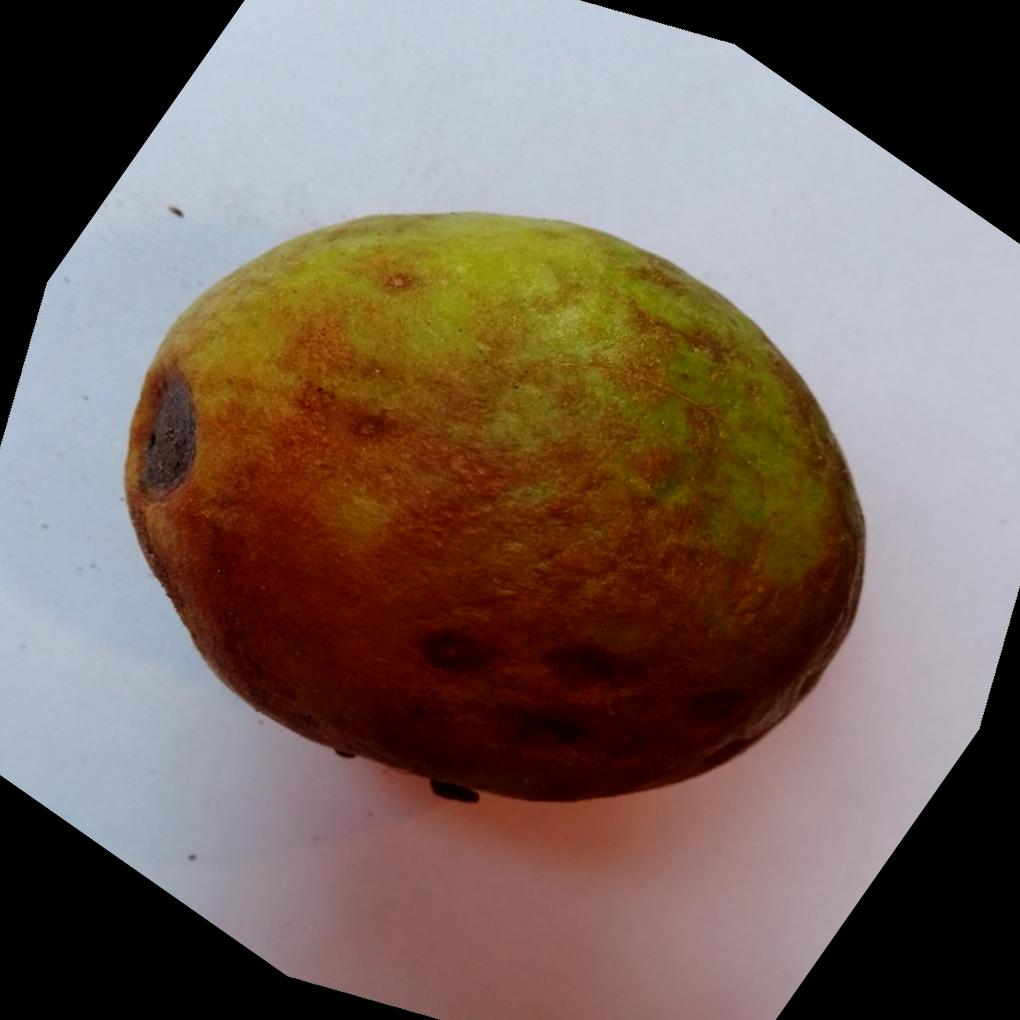FreshOrange: (118, 211, 866, 808)
